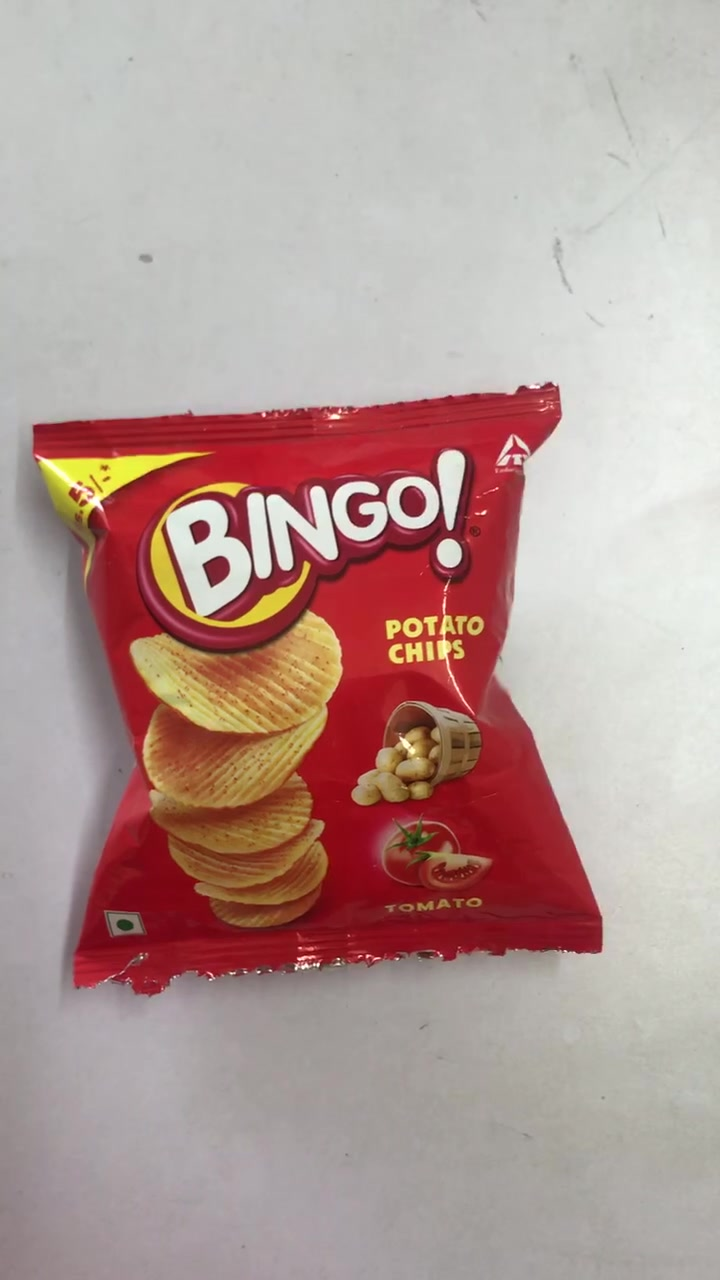Bingo: (37, 395, 603, 981)
